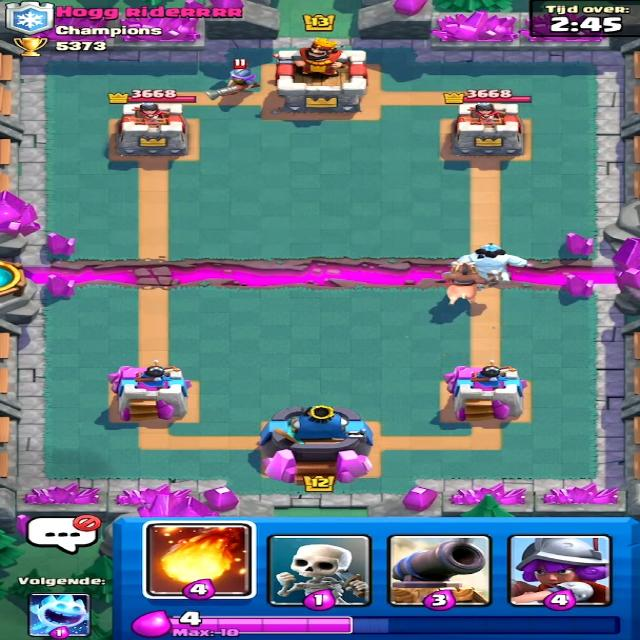Cannon_Card: (398, 533, 498, 601)
Enemy_Musketeer_Troop: (199, 62, 262, 106)
Fireball_Card: (146, 524, 250, 598)
Hog_Rider_Troop: (429, 256, 501, 309)
Ice_Golem_Troop: (444, 240, 534, 288)
Musketeer_Card: (510, 534, 612, 605)
Skeleton_Card: (265, 535, 372, 606)
